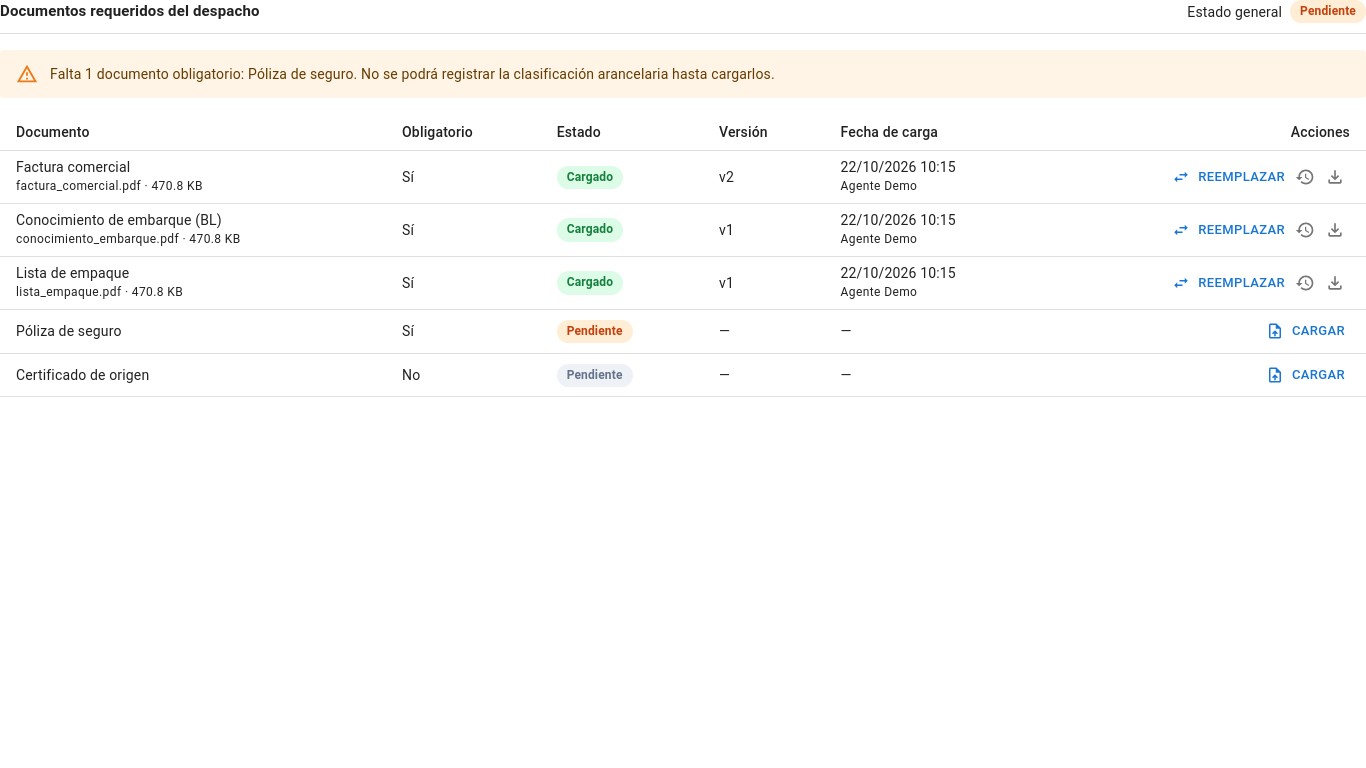
Test case: DocumentosDespacho (HU-06) › CA3: al reemplazar confirma que la versión anterior se conserva y lista las versiones
What coordinates should you click on to do the following:
click the button with aria-label "Reemplazar Factura comercial"
I would click on:
 (1230, 177)
Its box is [1169, 162, 1290, 193].
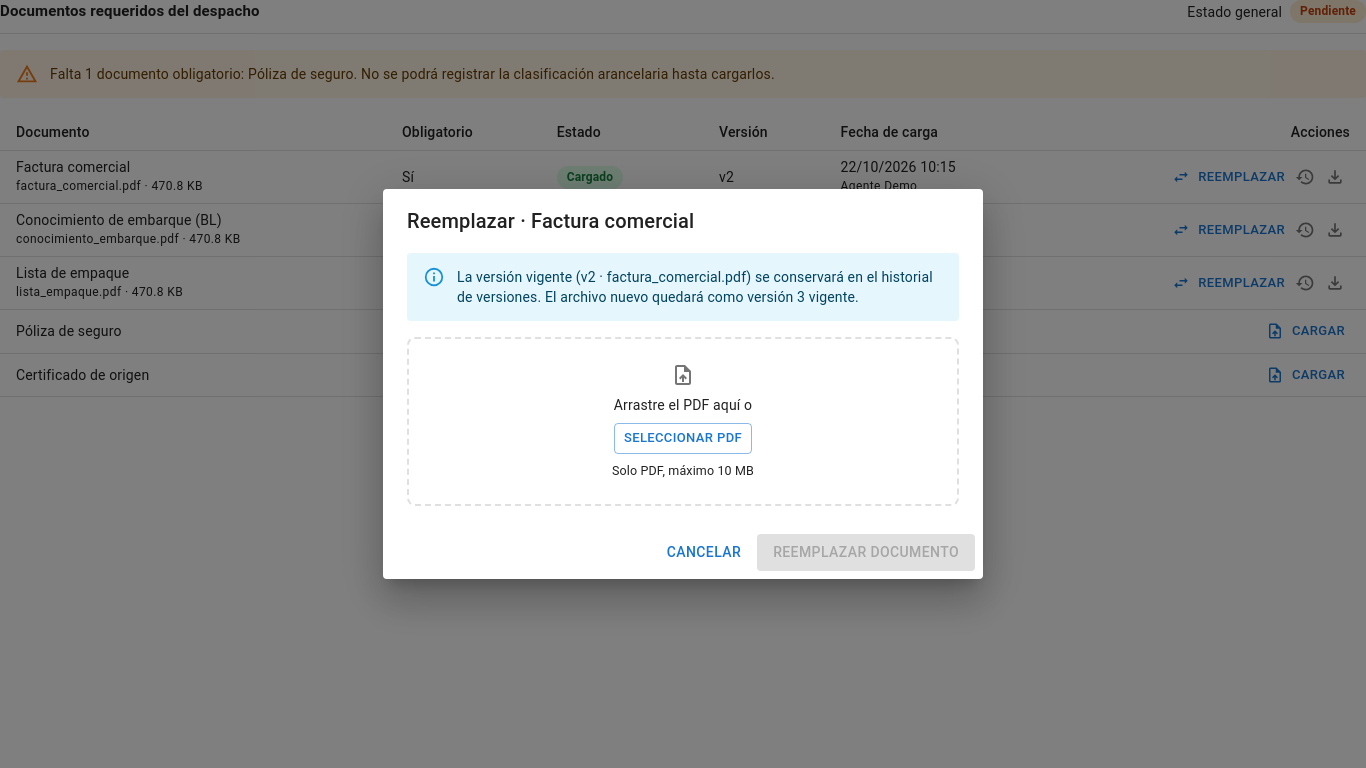
Expected: the dialog shows "La versión vigente (v2 · factura_comercial.pdf) se conservará en el historial", [383, 189, 983, 579]
Expected: the dialog shows "quedará como versión 3 vigente", [383, 189, 983, 579]
Expected: the button "Reemplazar documento" is disabled, [757, 534, 975, 571]
What coordinates should you click on to do the following:
click the button "Cancelar"
I would click on:
 (704, 552)
Its box is [659, 534, 749, 571].
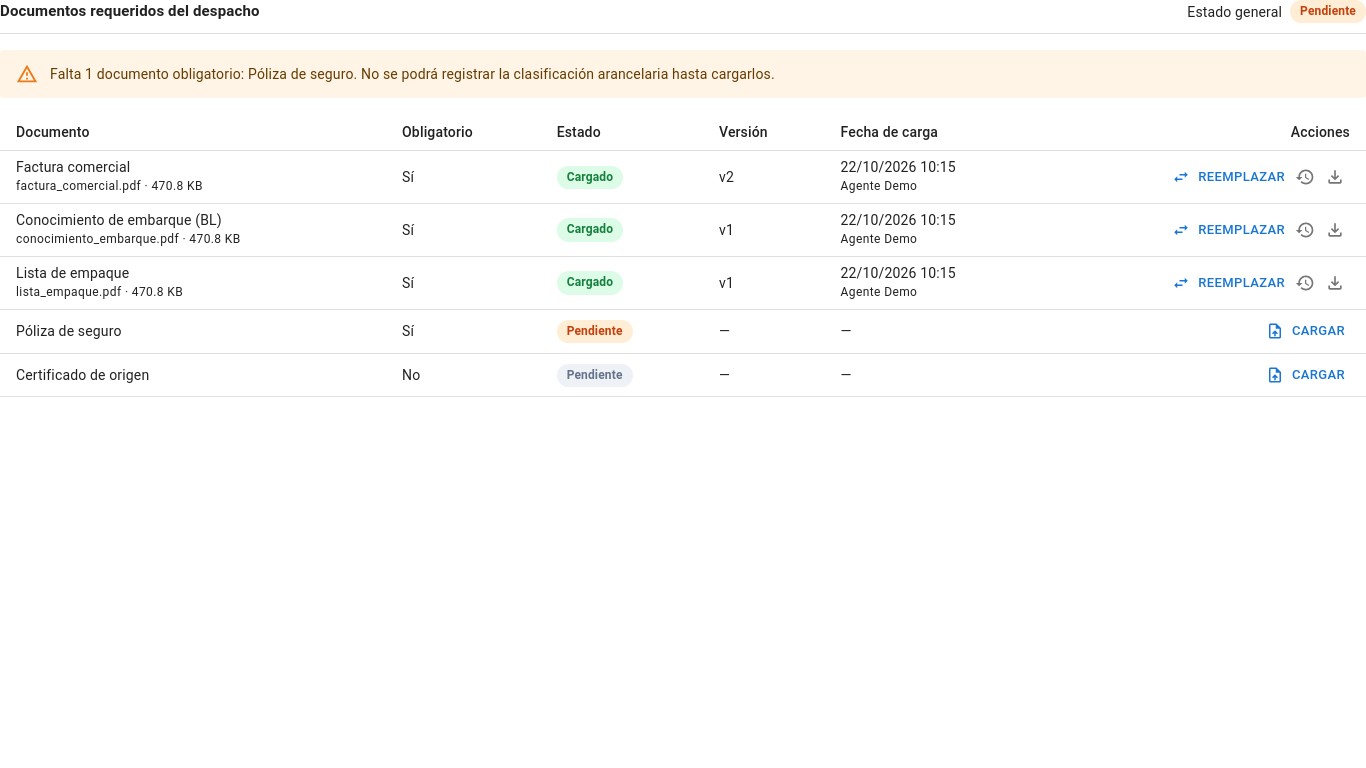
Expected: the dialog is gone
What coordinates should you click on to do the following:
click the button named "Ver versiones de Factura comercial"
I would click on:
 (1305, 177)
Its box is [1290, 162, 1320, 192].
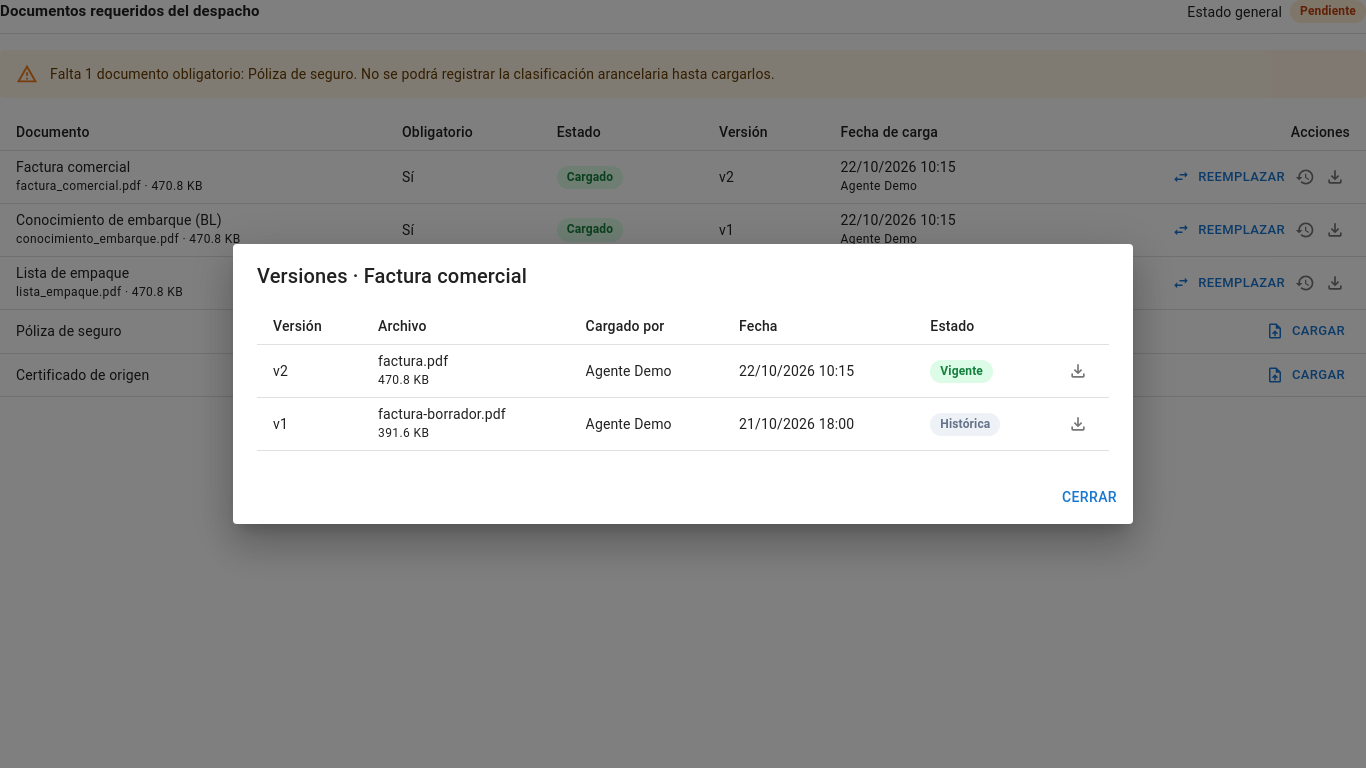
Expected: the text "Vigente" is shown, [930, 360, 993, 383]
Expected: the text "Histórica" is shown, [930, 413, 1000, 436]
